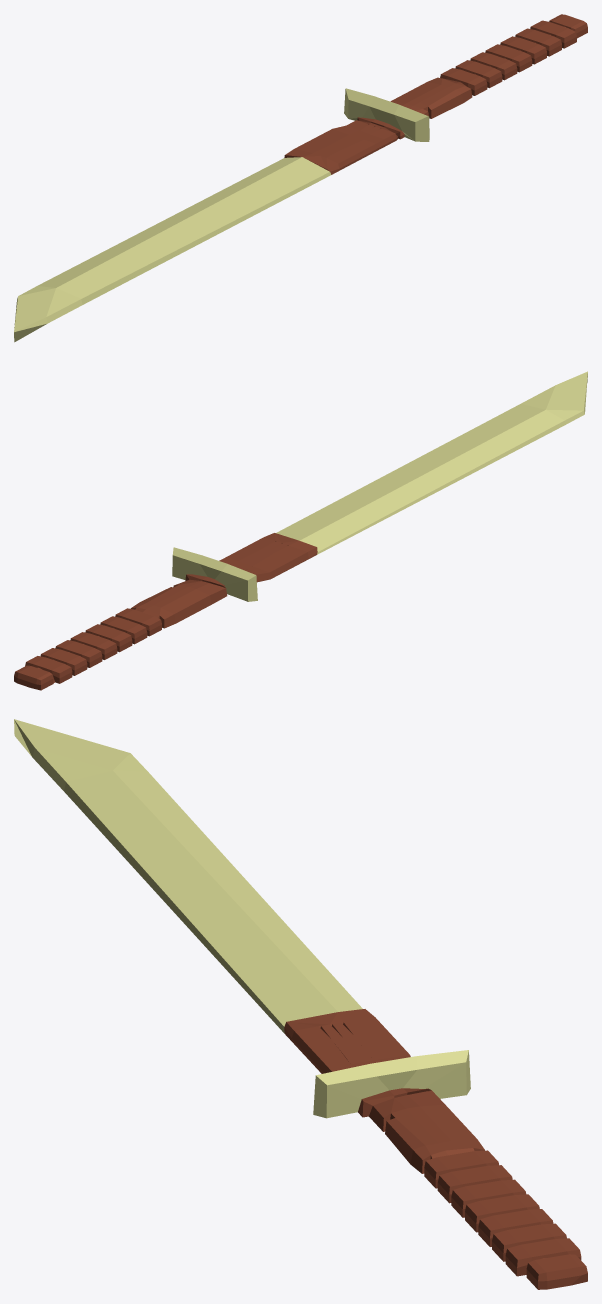
The model's file is sword.fbx.
3 views of the same model, one above another, from view 1: azimuth 30°, elevation 25°; view 2: azimuth 210°, elevation 25°; view 3: azimuth 270°, elevation 25° (orthographic). The views are drawn at different scales.
Parts seen in each view (by area): view 1: Плоскость; view 2: Плоскость; view 3: Плоскость.
Boxes of the visible parts, box(x1,y1,x2,y2) form: Плоскость: box(14, 14, 587, 342); Плоскость: box(14, 371, 587, 690); Плоскость: box(14, 719, 587, 1289).
Size of the model in its own units: 1665 by 69.27 by 718.
